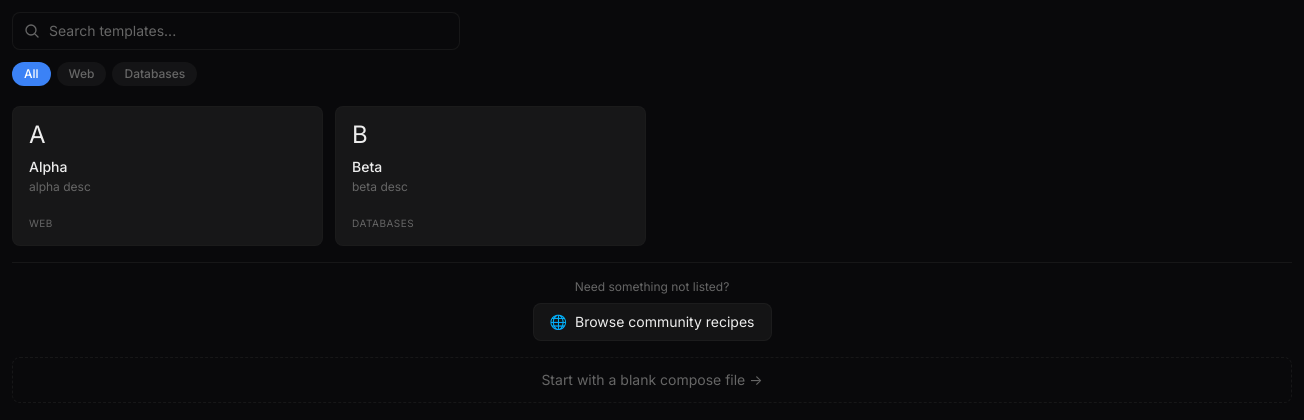
it: TemplatePicker (grid) › shows "No templates match" when filters exclude all
Type "nothing-here" into the field with placeholder "Search templates..." at (236, 31), box top-left (12, 12), bottom-right (460, 50)
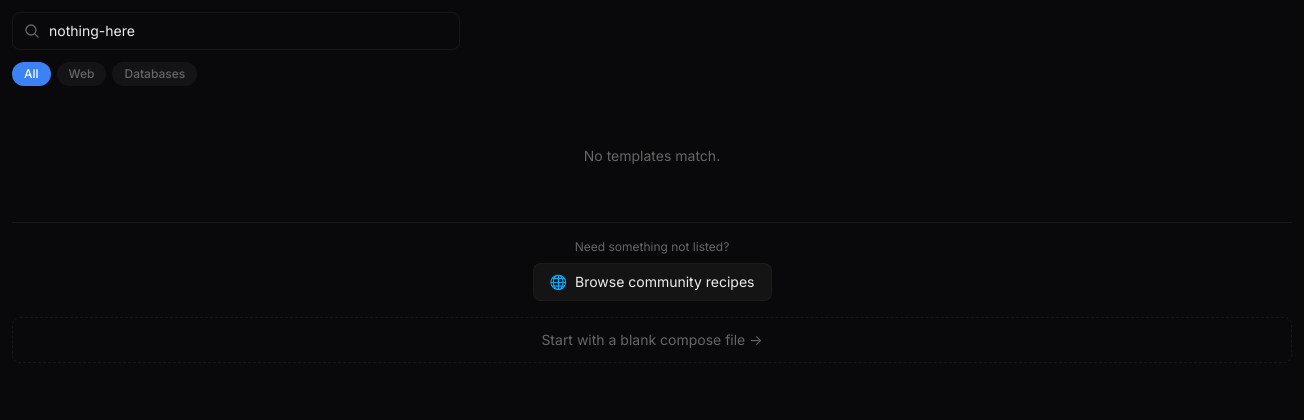
Expected: the text "No templates match." is shown, top-left (584, 147), bottom-right (720, 164)
